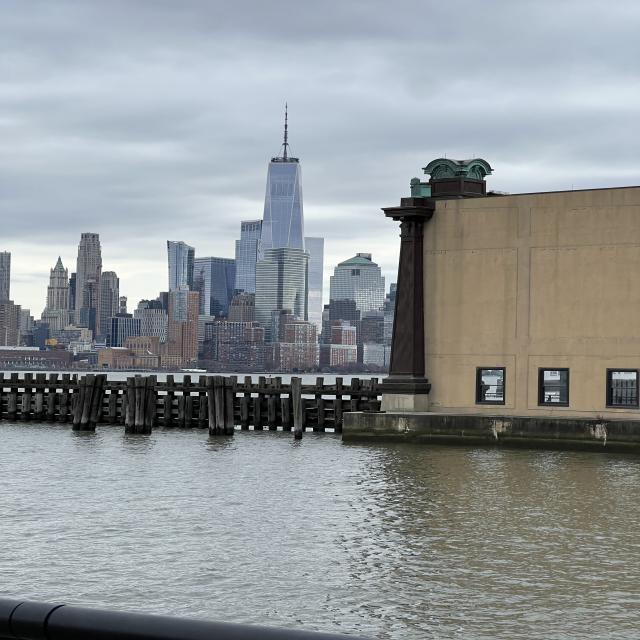WTC: (262, 101, 304, 250)
